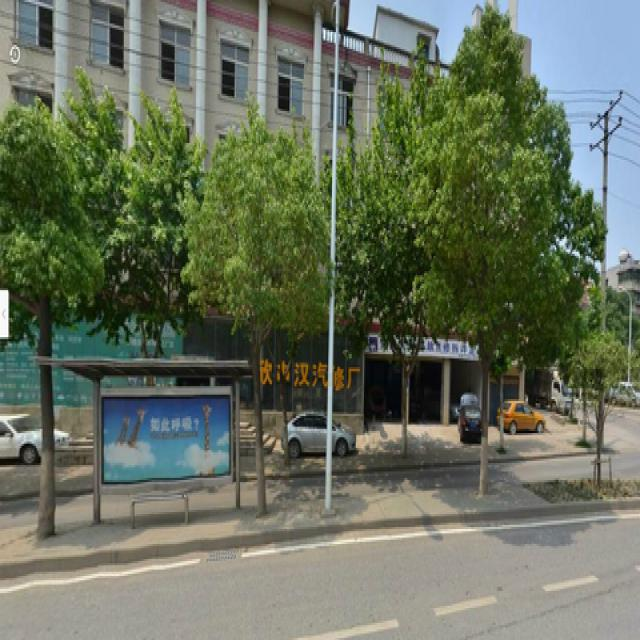cinn: (4, 108, 72, 538), (218, 134, 290, 523), (446, 115, 514, 491)
